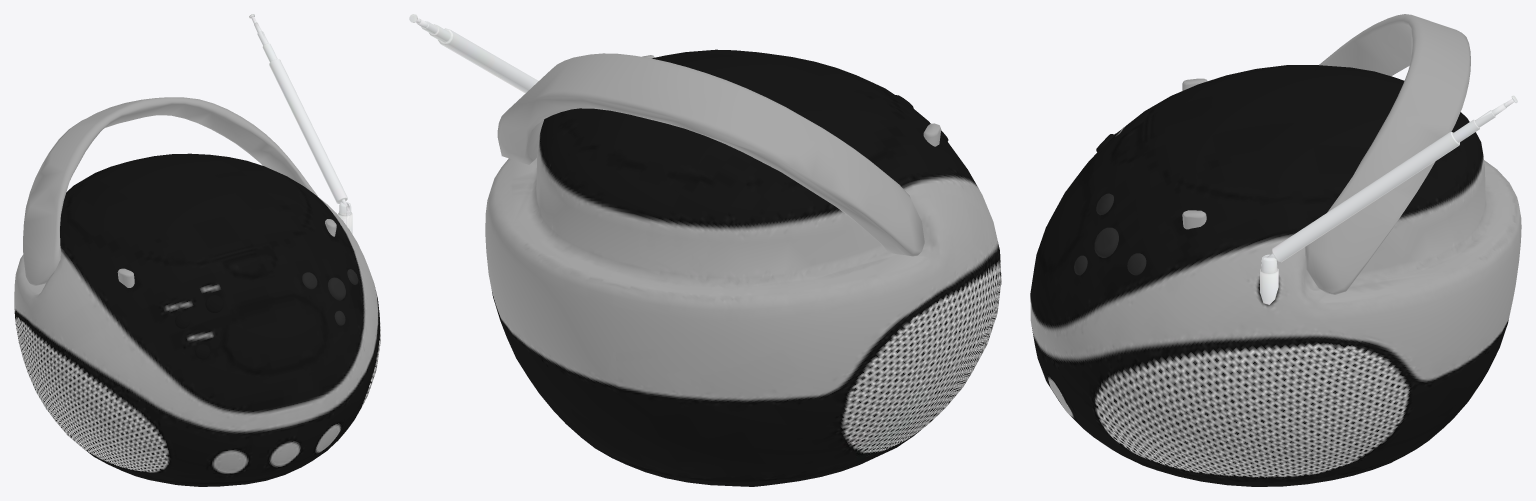
Rendered from boomBox.glb.
The picture shows the model from 3 angles, left to right: view 1: azimuth 30°, elevation 25°; view 2: azimuth 150°, elevation 25°; view 3: azimuth 270°, elevation 25°; orthographic projection. The views are drawn at different scales.
Parts seen in each view (by area): view 1: BoomBox; view 2: BoomBox; view 3: BoomBox.
Boxes of the visible parts, x1,y1,x2,y2 form: BoomBox: (14, 14, 380, 486); BoomBox: (409, 14, 1001, 486); BoomBox: (1030, 14, 1521, 486).
Size of the model in its own units: 0.0198 by 0.0195 by 0.0202.
1 material, 1 textured.
